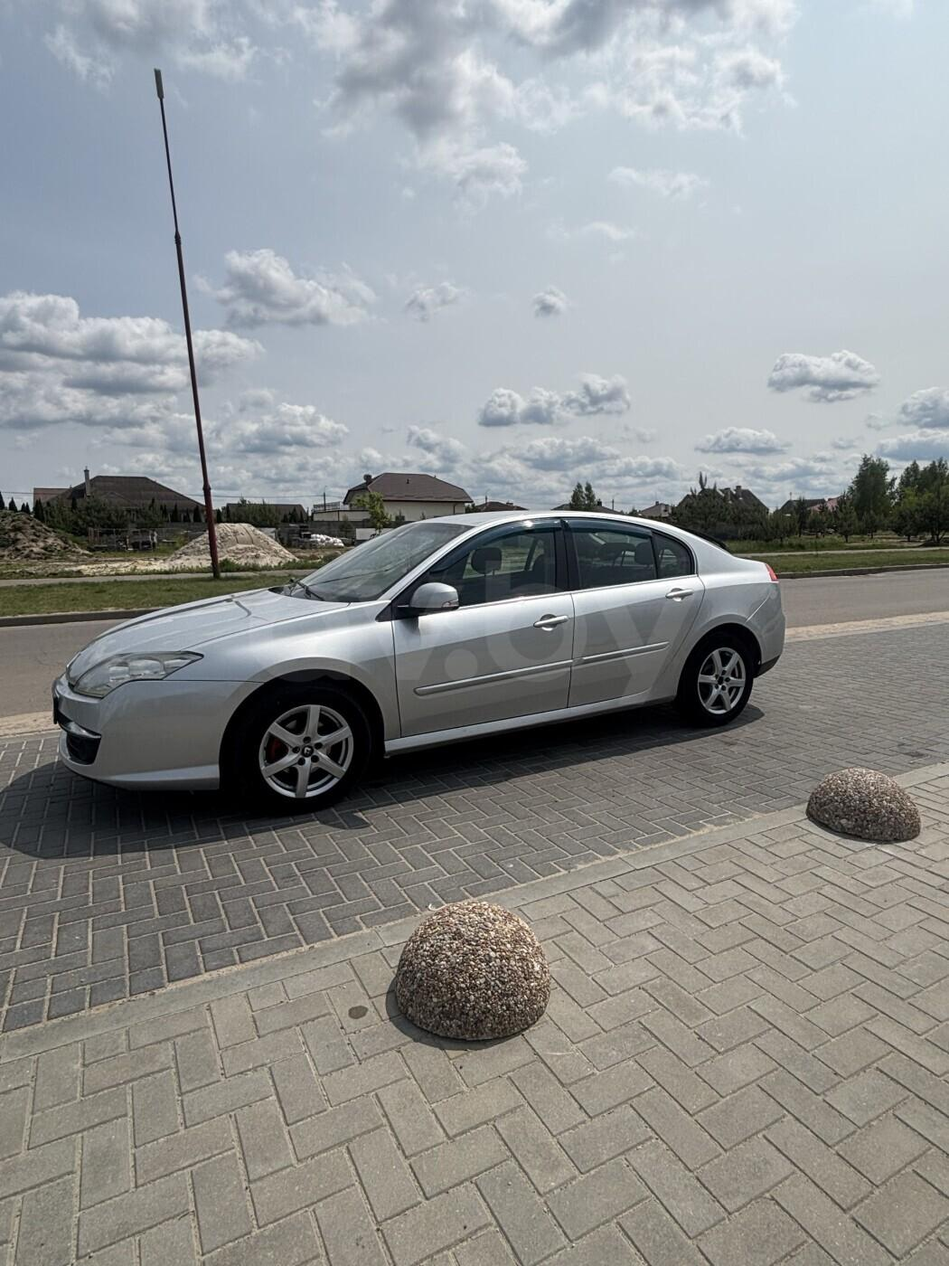Laguna_2007-2011: (53, 512, 785, 810)
